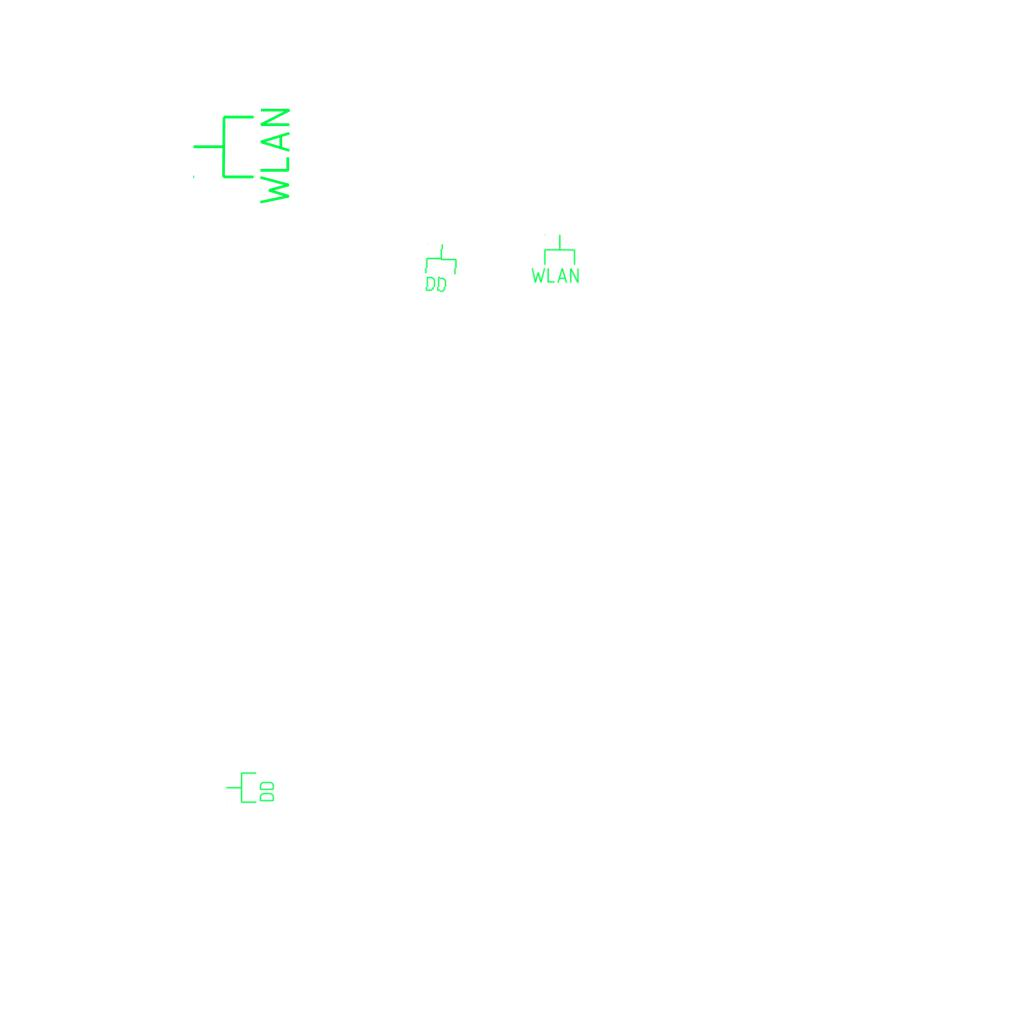Datenanschluss_zweifach: (422, 241, 459, 295), (225, 771, 276, 805)
WLAN: (190, 104, 294, 209), (529, 233, 581, 285)
